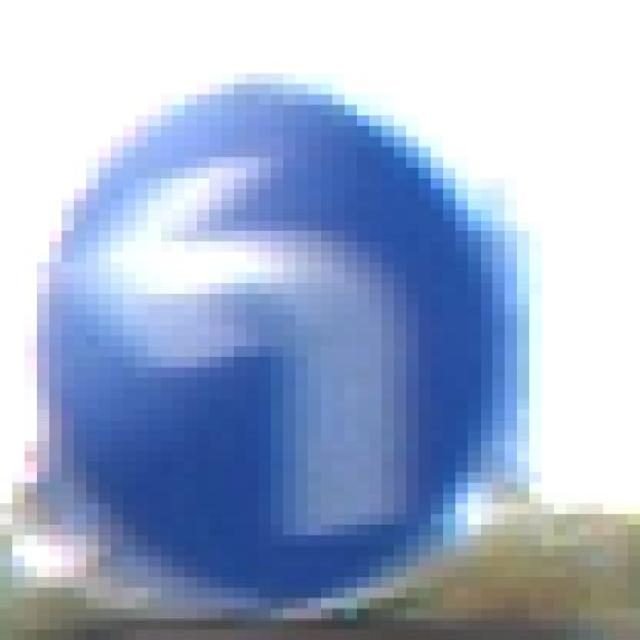Turn left ahead: (25, 84, 529, 608)
